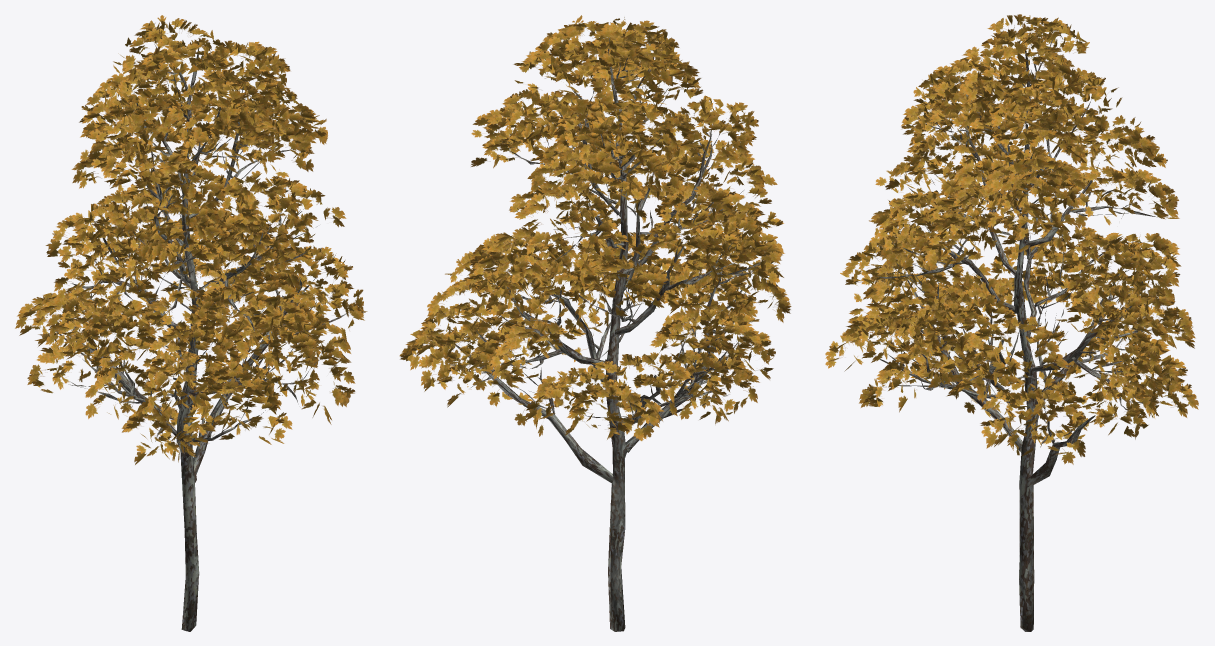
Rendered from platano.glb.
3 views of the same model, side by side, from view 1: azimuth 30°, elevation 25°; view 2: azimuth 150°, elevation 25°; view 3: azimuth 270°, elevation 25° (orthographic).
Visible parts, largest first — view 1: Leafs, Tree; view 2: Leafs, Tree; view 3: Leafs, Tree.
Part boxes in pixels (x1,y1,x2,y2): Leafs: (15, 15, 367, 464); Tree: (56, 39, 346, 631); Leafs: (399, 15, 791, 441); Tree: (451, 38, 760, 631); Leafs: (825, 14, 1198, 464); Tree: (867, 31, 1163, 631).
Bounding box in the file's own units: 2.14 × 3.95 × 2.23.
Materials: 2 (2 with a texture image).
